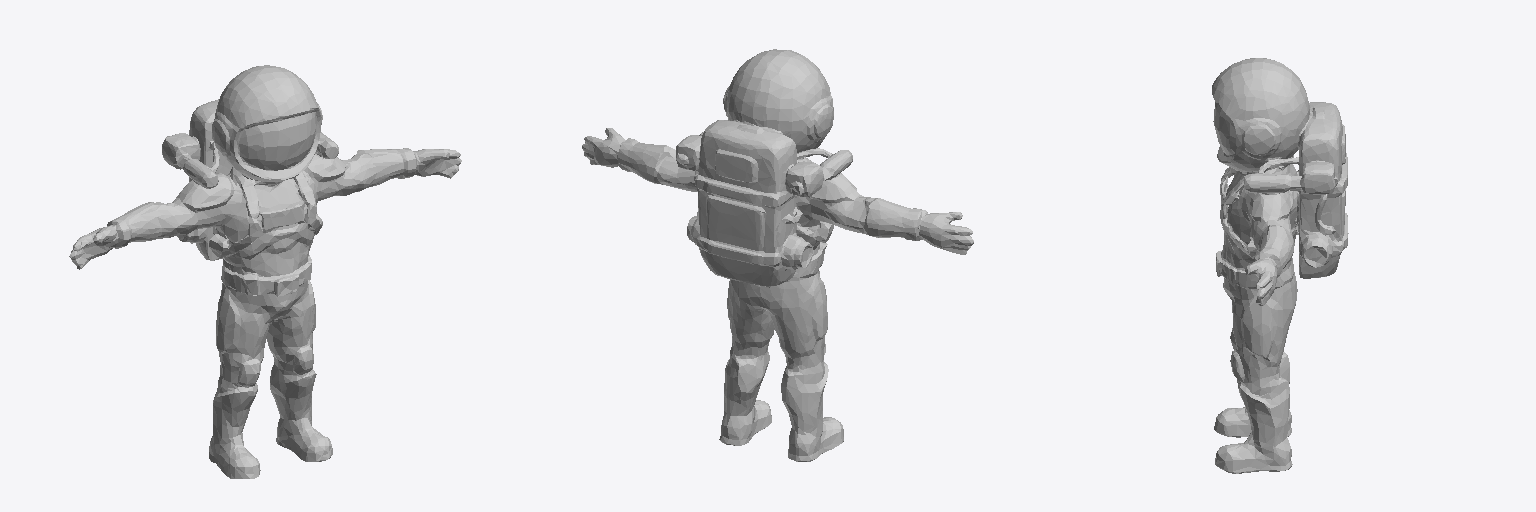
File: Neon.obj
The picture shows the model from 3 angles: view 1: azimuth 30°, elevation 25°; view 2: azimuth 150°, elevation 25°; view 3: azimuth 270°, elevation 25°; orthographic projection.
Visible parts, largest first — view 1: model; view 2: model; view 3: model.
Part boxes in pixels (left/top/right/bottom): model: left=69, top=65, right=461, bottom=478; model: left=582, top=49, right=973, bottom=461; model: left=1212, top=58, right=1348, bottom=473.
Bounding box in the file's own units: 2.01 × 1.9 × 0.6082.